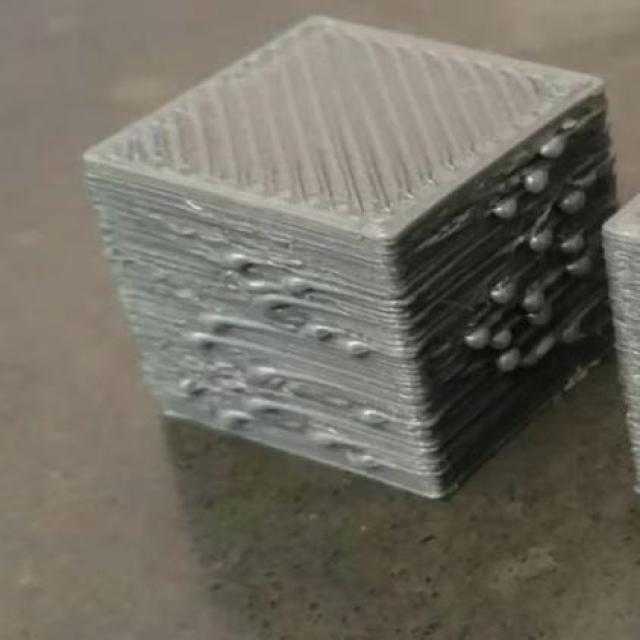spaghetti: (166, 243, 440, 496), (449, 91, 618, 393)
